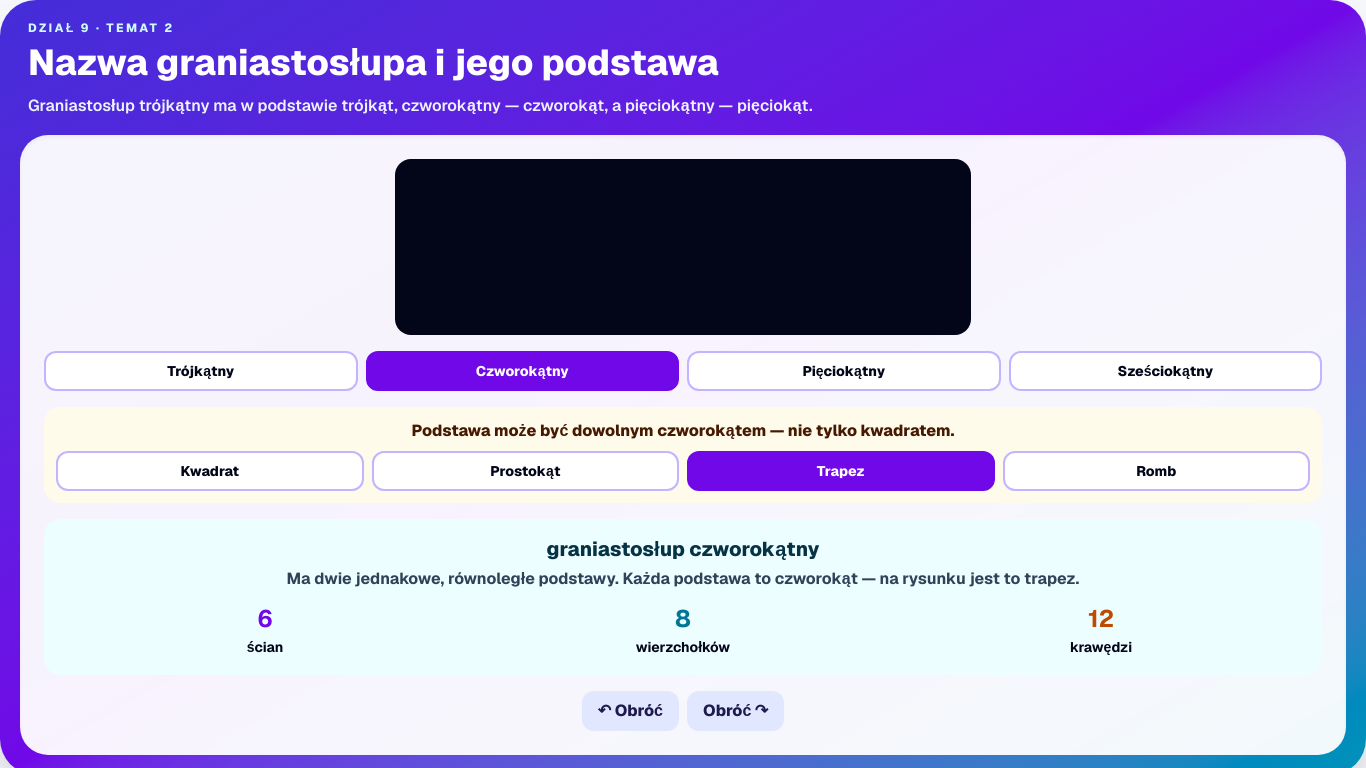
Test: RightPrismLessonLab › wiąże nazwę graniastosłupa z wielokątem w podstawie
Expected: the text "Podstawa może być dowolnym czworokątem — nie tylko kwadratem." is shown, x1=412 y1=420 x2=954 y2=441
Expected: the picture named "podstawą: trapez" is shown, x1=395 y1=159 x2=971 y2=335
Click the button "Prostokąt" at (525, 471), box x1=372 y1=451 x2=679 y2=491
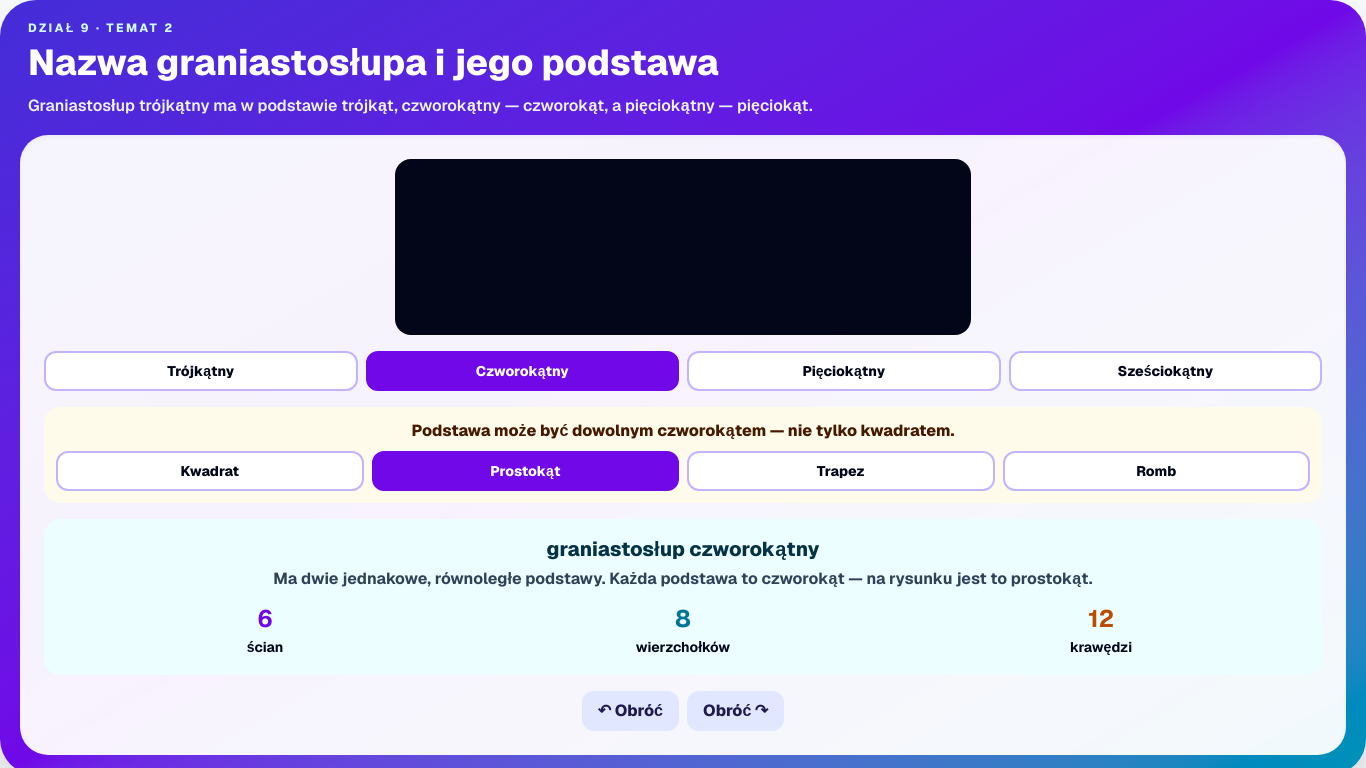
Expected: the picture named "podstawą: prostokąt" is shown, x1=395 y1=159 x2=971 y2=335
Click the button "Pięciokątny" at (844, 371), box x1=687 y1=351 x2=1000 y2=391
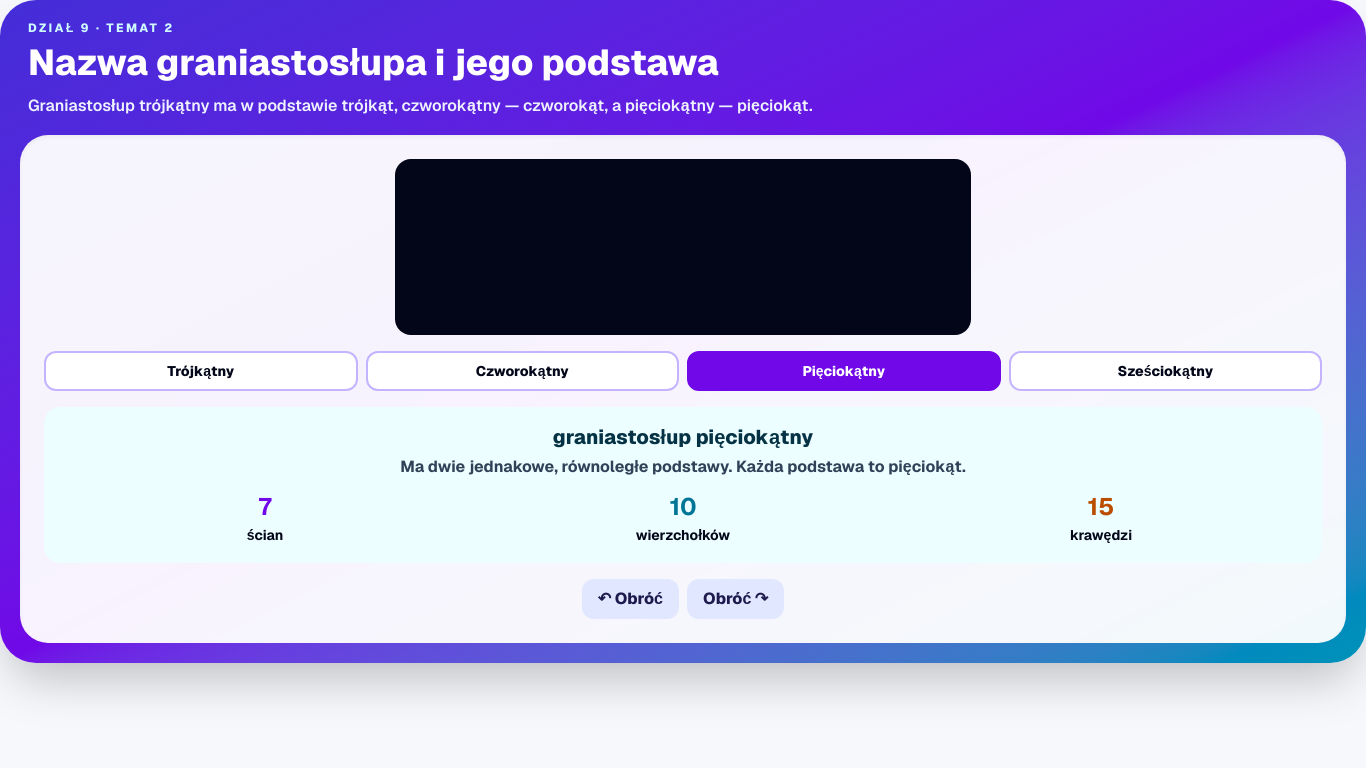
Expected: the text "graniastosłup pięciokątny" is shown, x1=553 y1=424 x2=813 y2=450
Expected: the text "Każda podstawa to pięciokąt" is shown, x1=400 y1=456 x2=966 y2=477
Expected: the text "10" is shown, x1=670 y1=491 x2=696 y2=522
